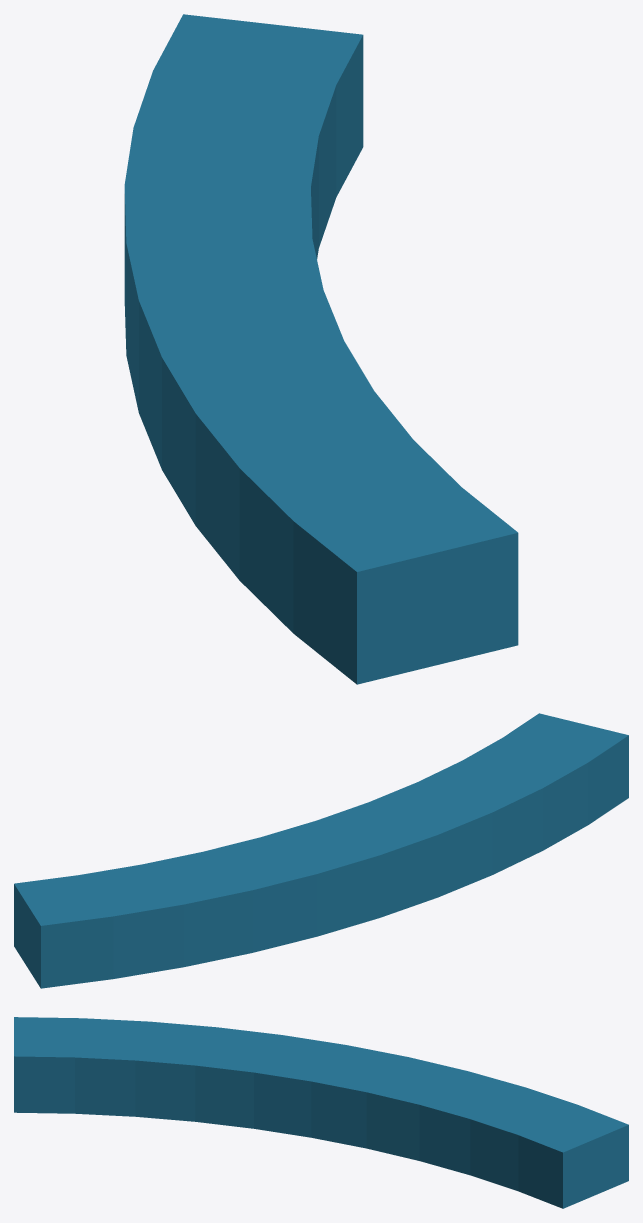
File: 28Arch45.obj
The picture shows the model from 3 angles, top to bottom: view 1: azimuth 30°, elevation 25°; view 2: azimuth 150°, elevation 25°; view 3: azimuth 270°, elevation 25°; orthographic projection. The views are drawn at different scales.
Visible parts, largest first — view 1: 28Arch45; view 2: 28Arch45; view 3: 28Arch45.
Part boxes in pixels (x1=…): 28Arch45: x1=124, y1=14, x2=518, y2=684; 28Arch45: x1=14, y1=713, x2=628, y2=988; 28Arch45: x1=14, y1=1017, x2=628, y2=1208.
Size of the model in its own units: 1.03 by 0.2 by 1.98.
